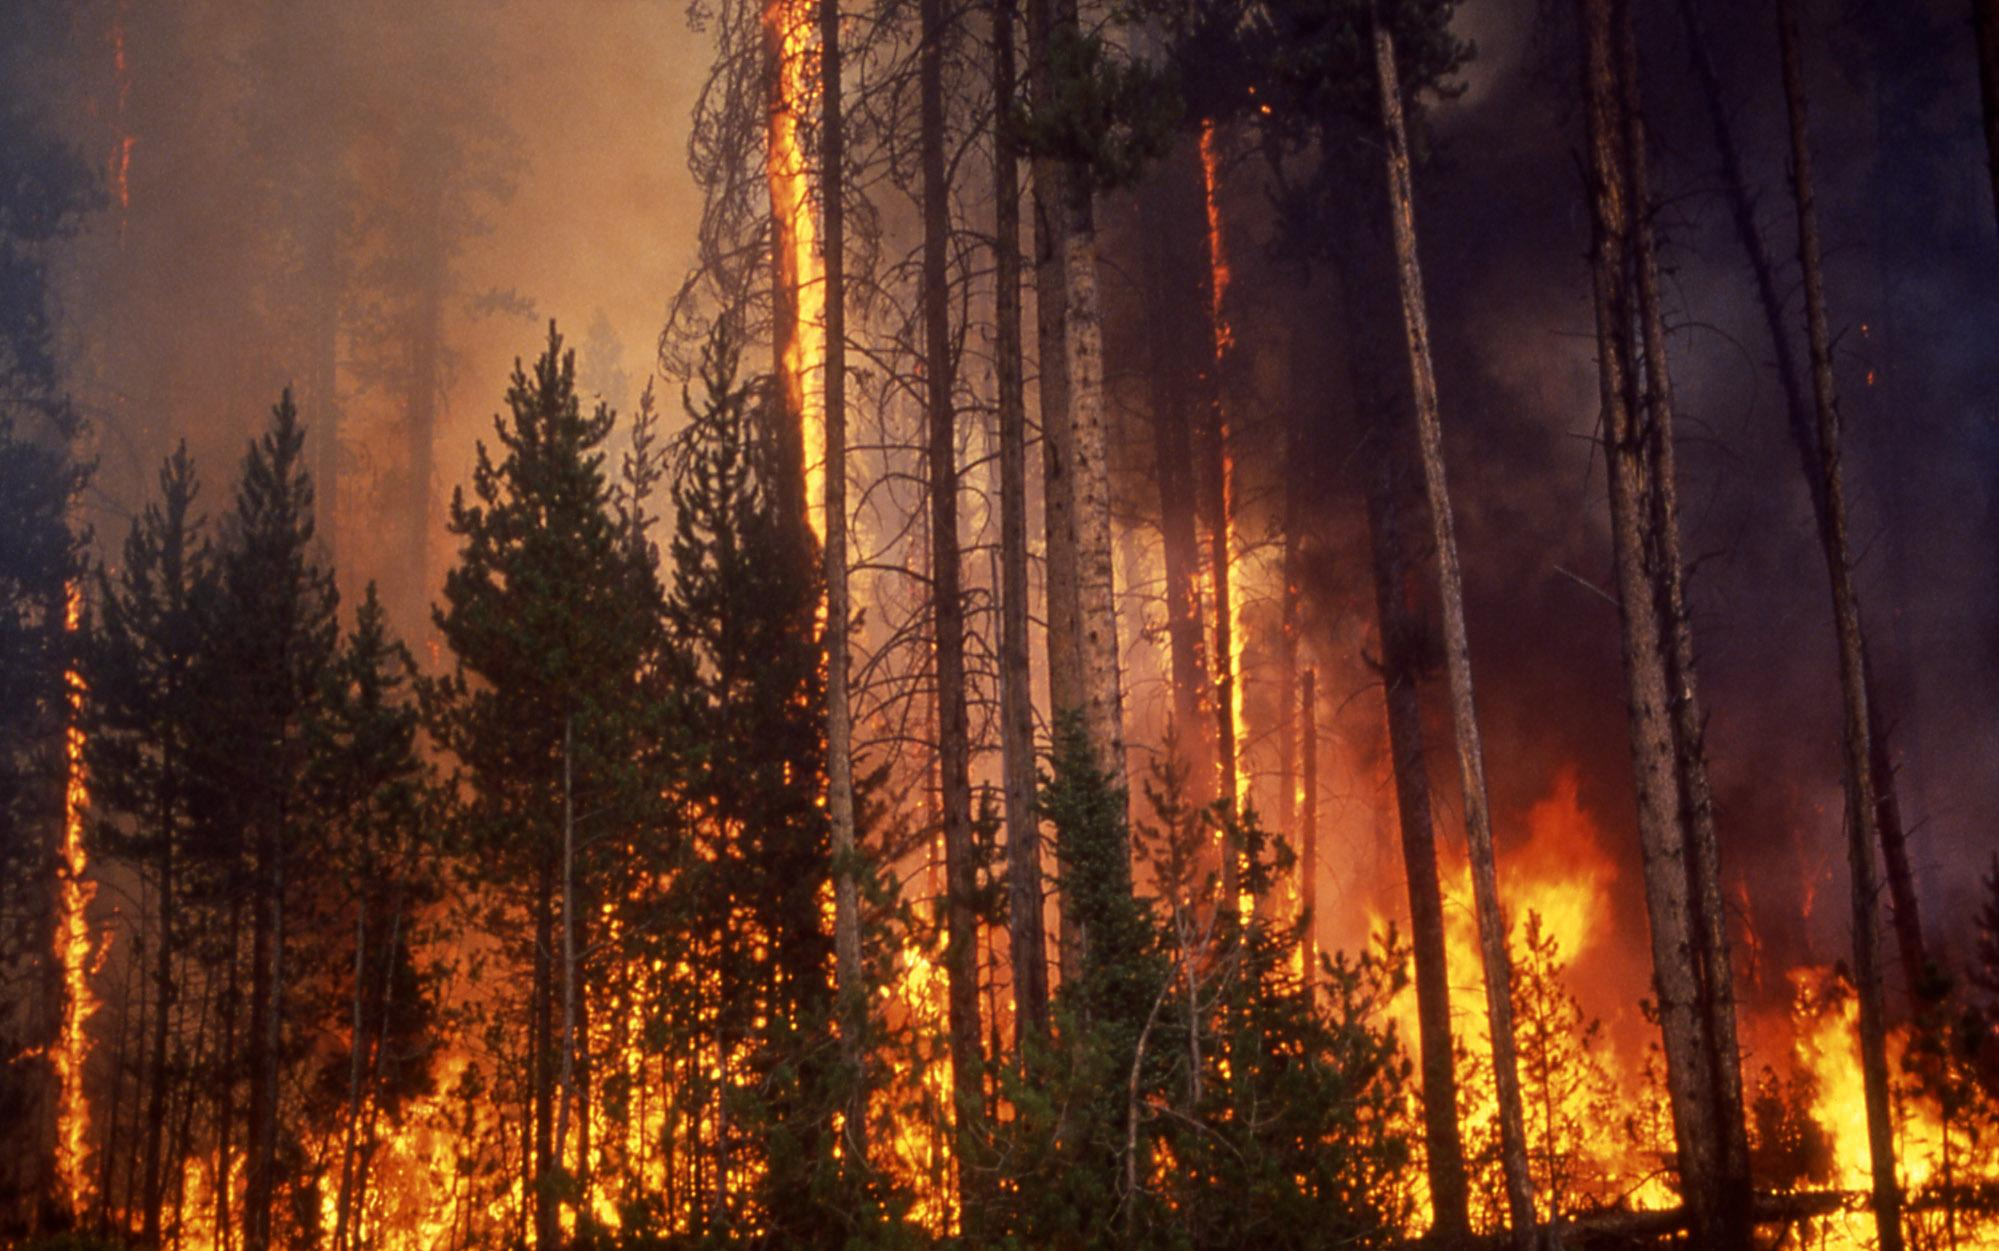fire: (0, 592, 1056, 1251), (1309, 698, 1999, 1251), (1179, 89, 1273, 945), (768, 0, 862, 552)
